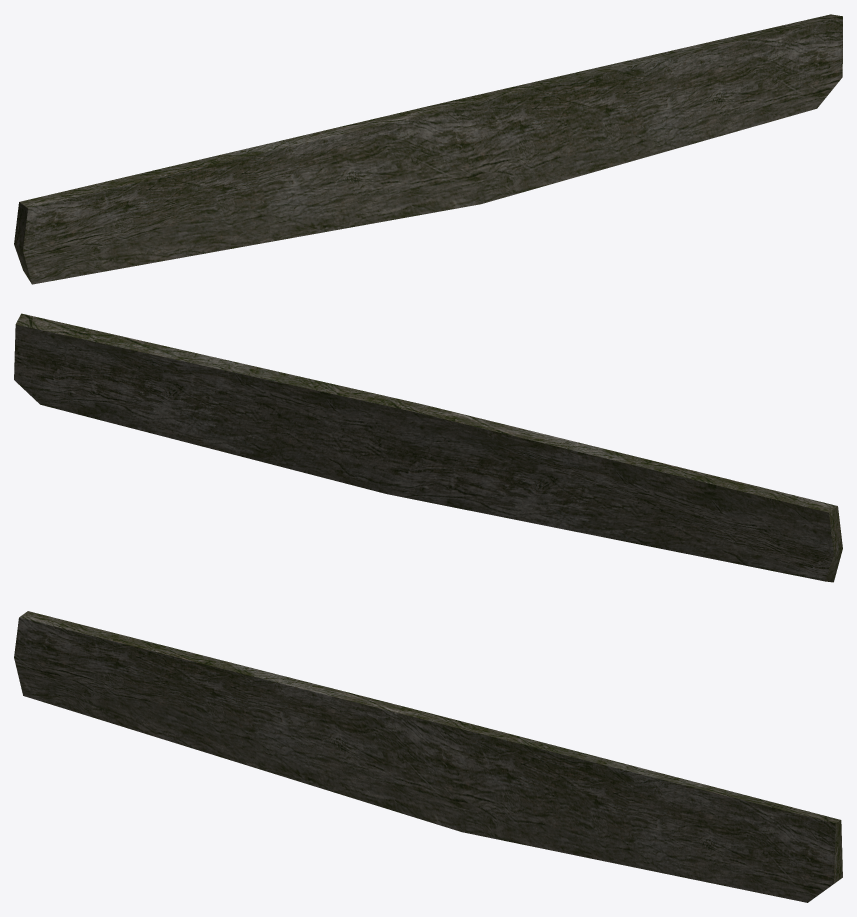
File: TI_Plank_06.fbx
3 views of the same model, one above another, from view 1: azimuth 30°, elevation 25°; view 2: azimuth 150°, elevation 25°; view 3: azimuth 330°, elevation 25° (orthographic).
Visible parts, largest first — view 1: TI_Plank_06; view 2: TI_Plank_06; view 3: TI_Plank_06.
Boxes of the visible parts, <box> form: TI_Plank_06: <box>14,14,842,284</box>; TI_Plank_06: <box>14,313,842,582</box>; TI_Plank_06: <box>14,611,842,902</box>.
Bounding box in the file's own units: 4.19 × 0.492 × 0.13.
